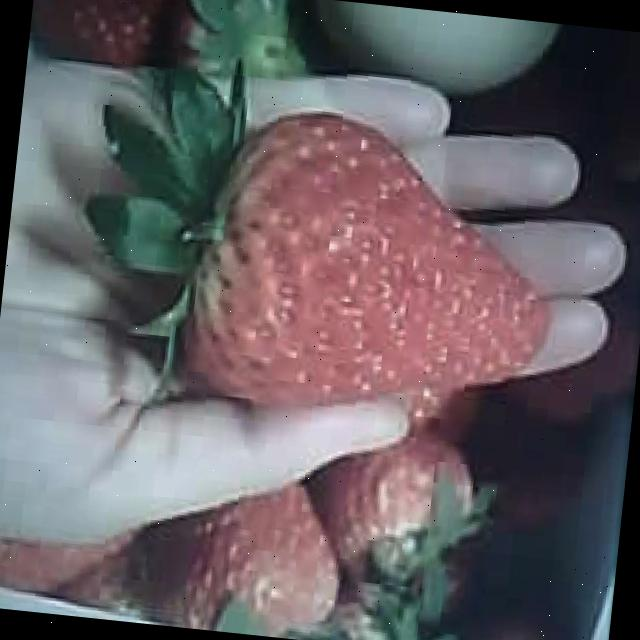strawberry: (178, 101, 566, 434)
